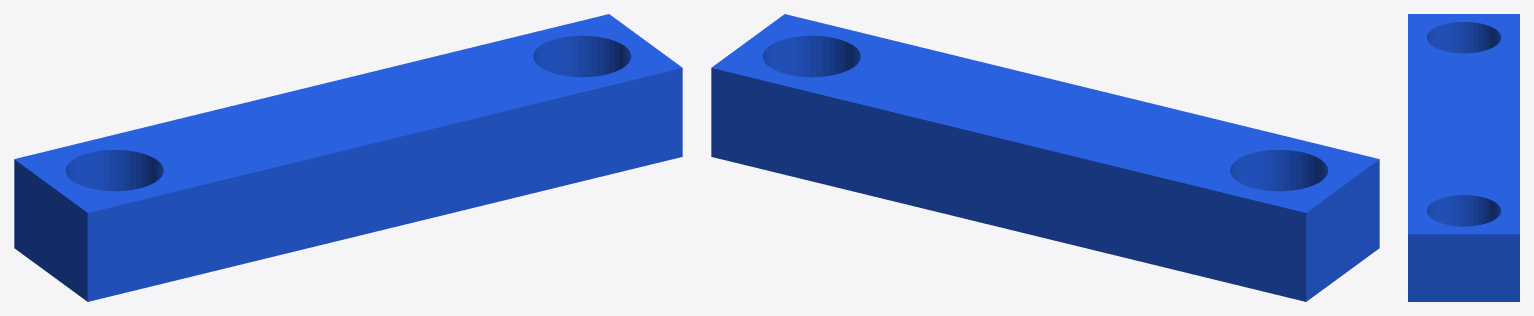
3 views of the same model, side by side, from view 1: azimuth 30°, elevation 25°; view 2: azimuth 150°, elevation 25°; view 3: azimuth 270°, elevation 25° (orthographic). The views are drawn at different scales.
Bounding box in the file's own units: 140 × 20 × 30.
